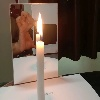fire: (38, 15, 44, 43)
